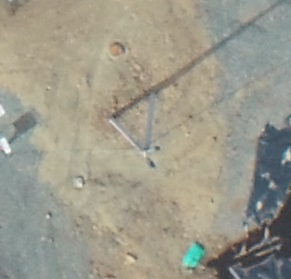opora: (107, 79, 163, 170)
